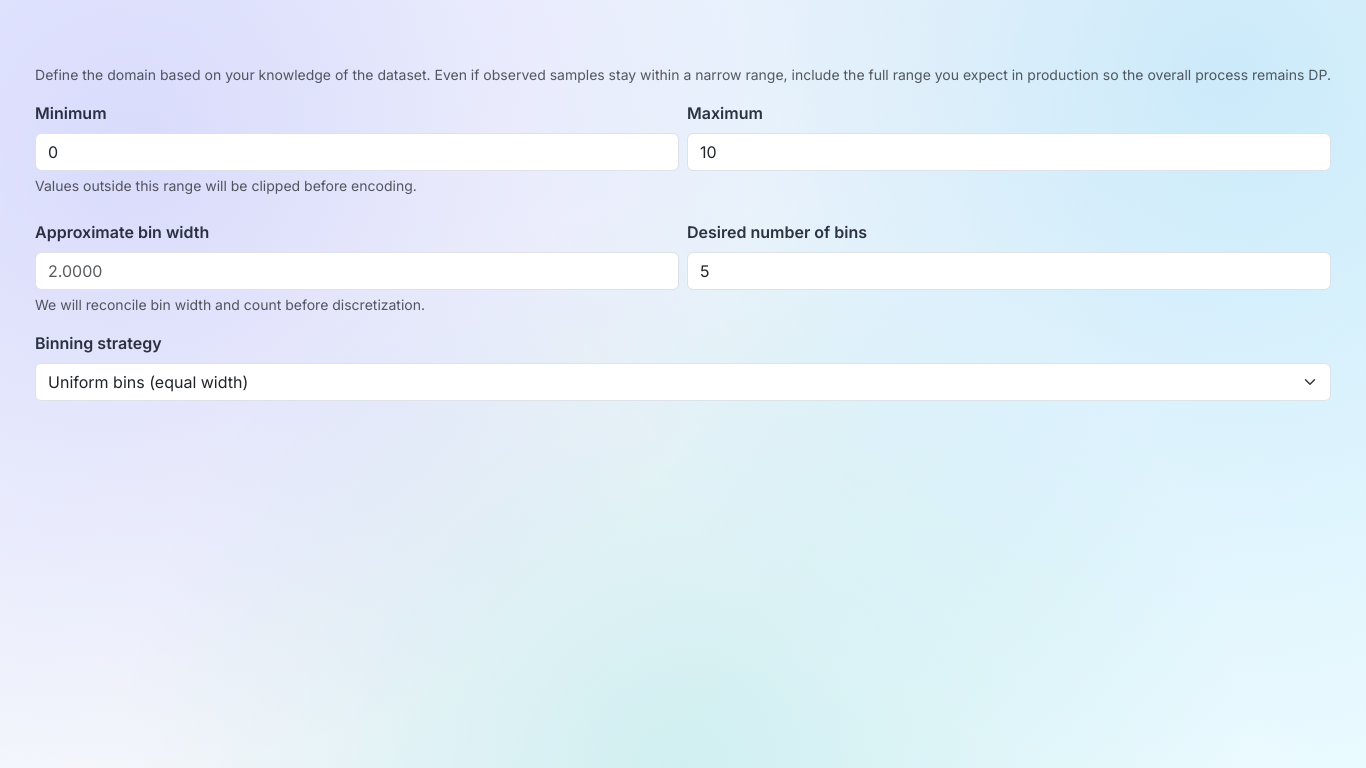
Test case: NumericalEditor › blocks invalid numeric input and surfaces error message
Clear the number field labelled "Minimum" at (357, 152), box 35,133 -> 679,171
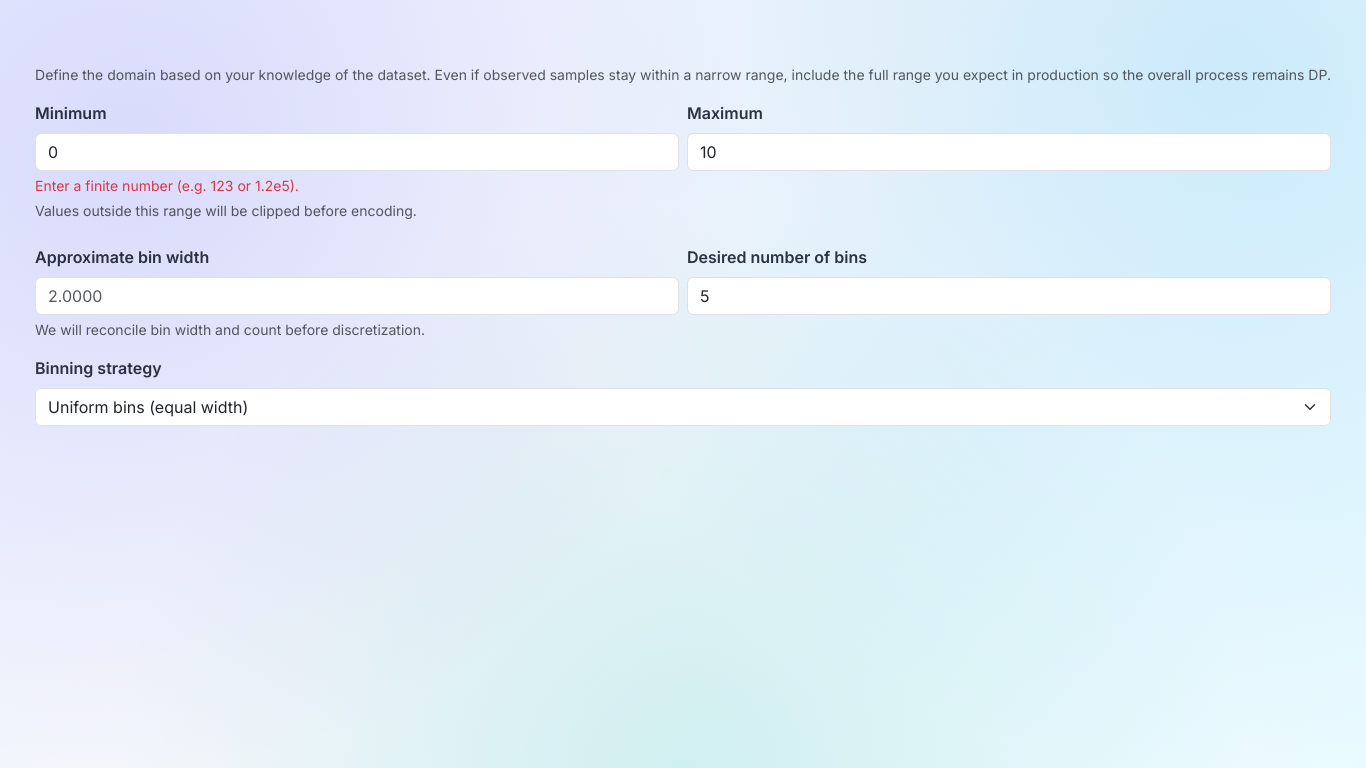
Check: the text "Enter a finite number (e.g. 123 or 1.2e5)." is shown, box 35,177 -> 299,194
